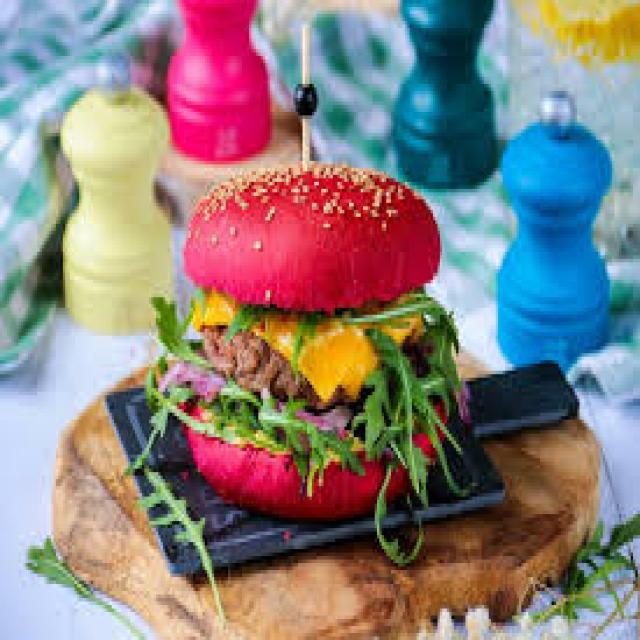Wet Waste: (192, 156, 459, 525)
